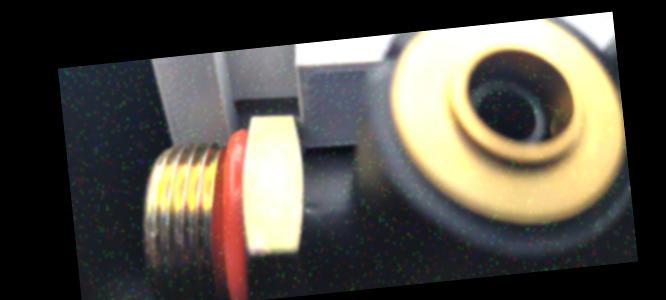bump: (377, 40, 404, 69)
joint line: (322, 195, 353, 210)
white mark: (302, 203, 322, 220)
